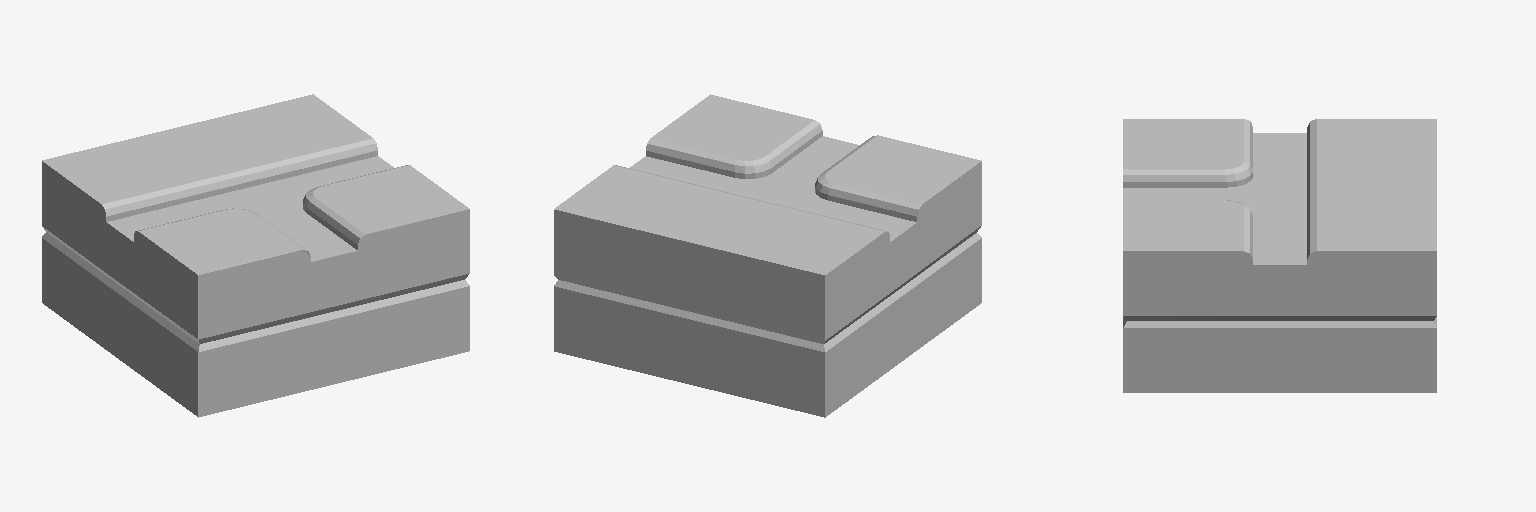
The model's file is square_rock_roadD_detail.obj.
3 renders of one model, left to right at view 1: azimuth 30°, elevation 25°; view 2: azimuth 150°, elevation 25°; view 3: azimuth 270°, elevation 25°, orthographic.
Visible parts, largest first — view 1: square_rock_roadD_detail_Cube.323; view 2: square_rock_roadD_detail_Cube.323; view 3: square_rock_roadD_detail_Cube.323.
Boxes of the visible parts, x1,y1,x2,y2 form: square_rock_roadD_detail_Cube.323: [42, 94, 469, 417]; square_rock_roadD_detail_Cube.323: [554, 94, 981, 417]; square_rock_roadD_detail_Cube.323: [1123, 119, 1436, 392].
Size of the model in its own units: 2 by 1 by 2.